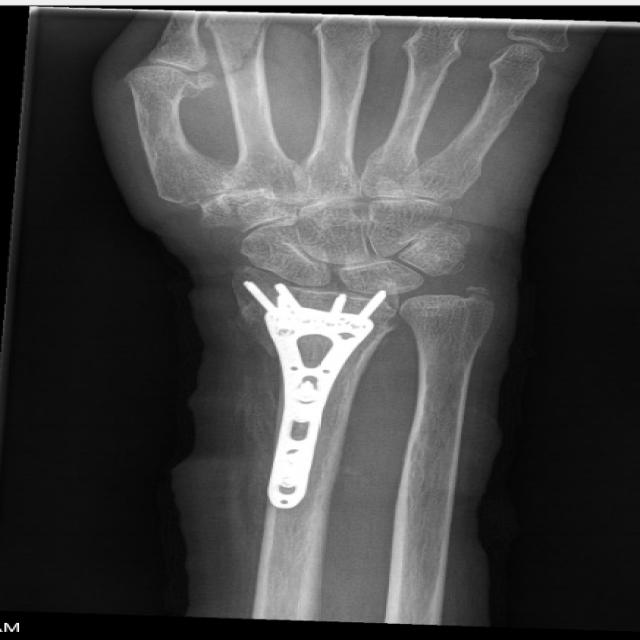x-ray: (220, 256, 394, 516)
